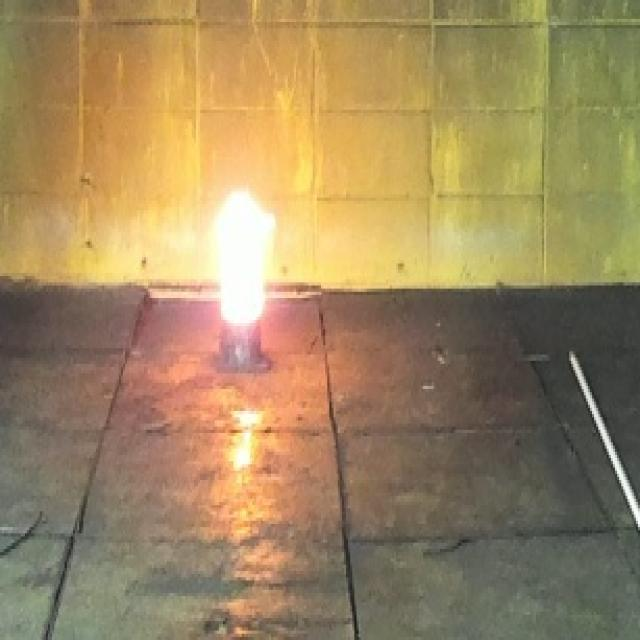Fire: (218, 191, 276, 324)
